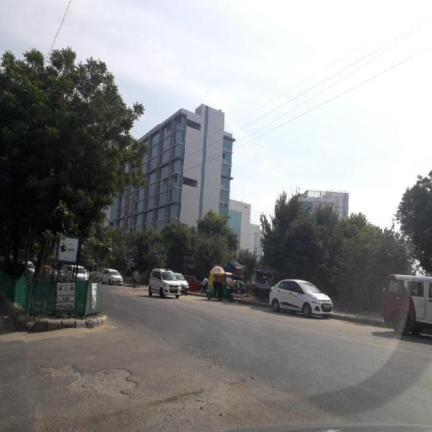Road: (0, 287, 431, 431)
